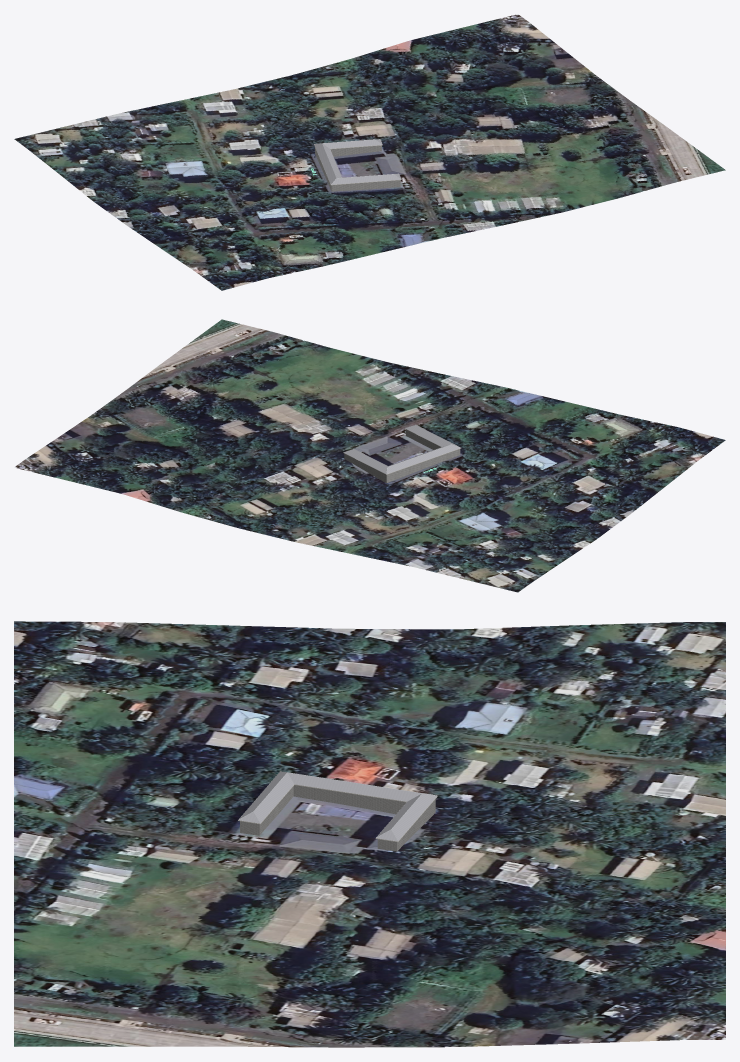
Rendered from melico_site.glb.
3 renders of one model, top to bottom at view 1: azimuth 30°, elevation 25°; view 2: azimuth 150°, elevation 25°; view 3: azimuth 270°, elevation 25°, orthographic. The views are drawn at different scales.
Parts seen in each view (by area): view 1: EXPORT_GOOGLE_SAT_WM, RoofSurface, houseModel; view 2: EXPORT_GOOGLE_SAT_WM, RoofSurface, houseModel; view 3: EXPORT_GOOGLE_SAT_WM, RoofSurface, houseModel, FF_Mesh_13.
Part boxes in pixels (bbox=[...]): EXPORT_GOOGLE_SAT_WM: bbox=[14, 14, 725, 290]; RoofSurface: bbox=[314, 139, 401, 184]; houseModel: bbox=[315, 149, 400, 191]; EXPORT_GOOGLE_SAT_WM: bbox=[14, 319, 725, 592]; RoofSurface: bbox=[343, 424, 460, 474]; houseModel: bbox=[344, 433, 460, 483]; EXPORT_GOOGLE_SAT_WM: bbox=[14, 621, 725, 1047]; RoofSurface: bbox=[238, 771, 437, 841]; houseModel: bbox=[240, 792, 435, 851]; FF_Mesh_13: bbox=[293, 785, 405, 808].
Bounding box in the file's own units: 268 × 7.33 × 191.
418 materials, 19 textured.
